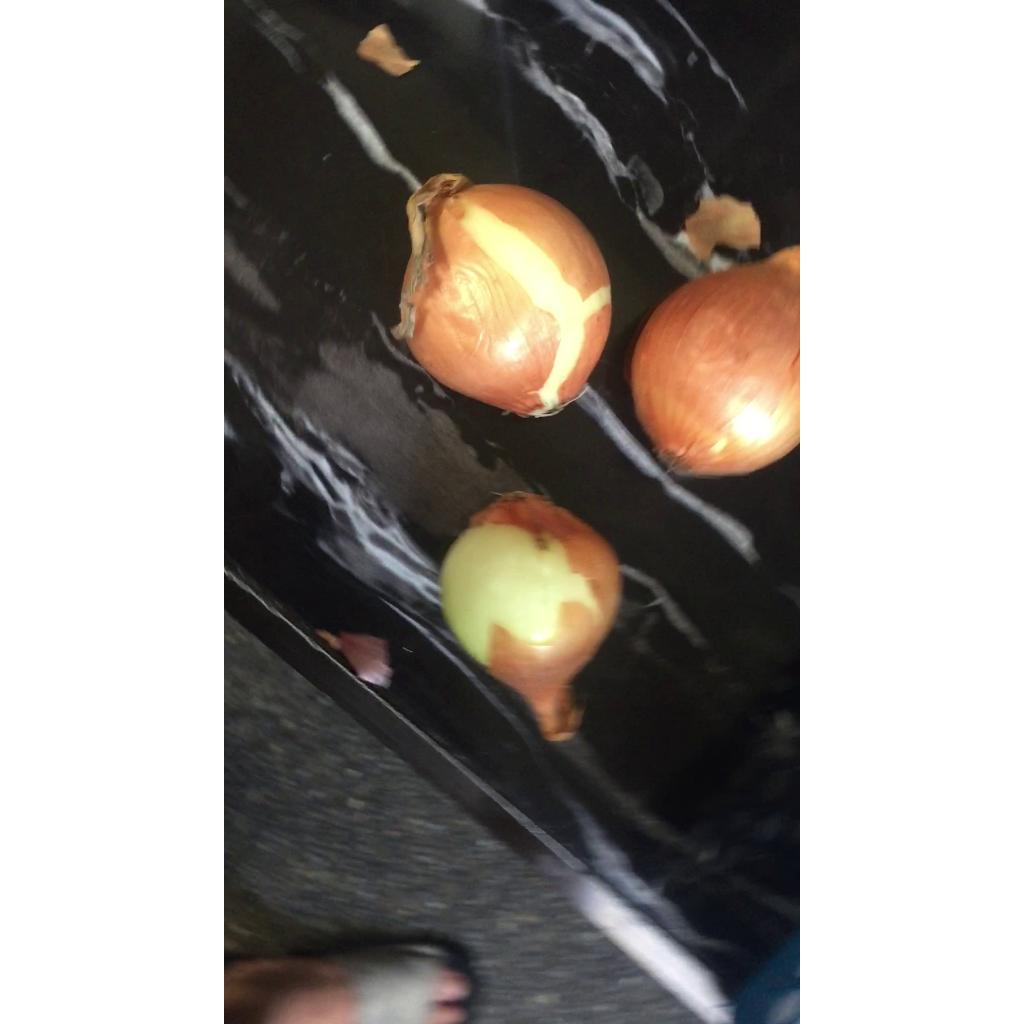Onion: (392, 173, 611, 416), (440, 493, 621, 741), (631, 246, 799, 476)
